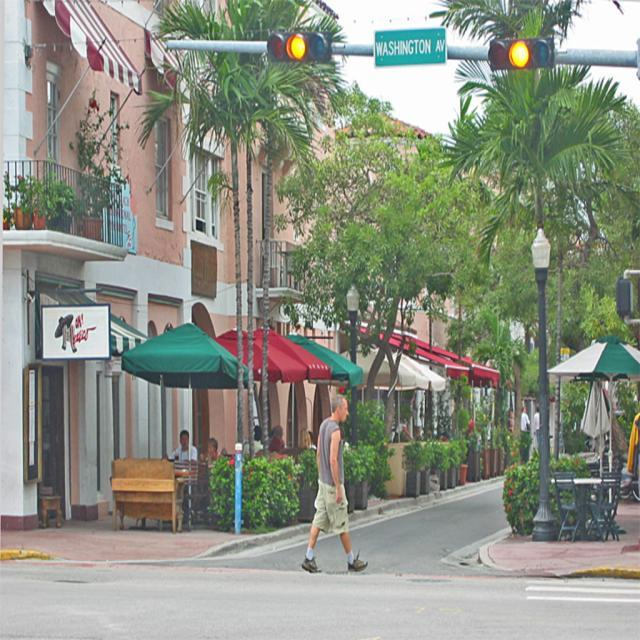traffic light: (487, 36, 553, 71), (265, 31, 331, 62)
